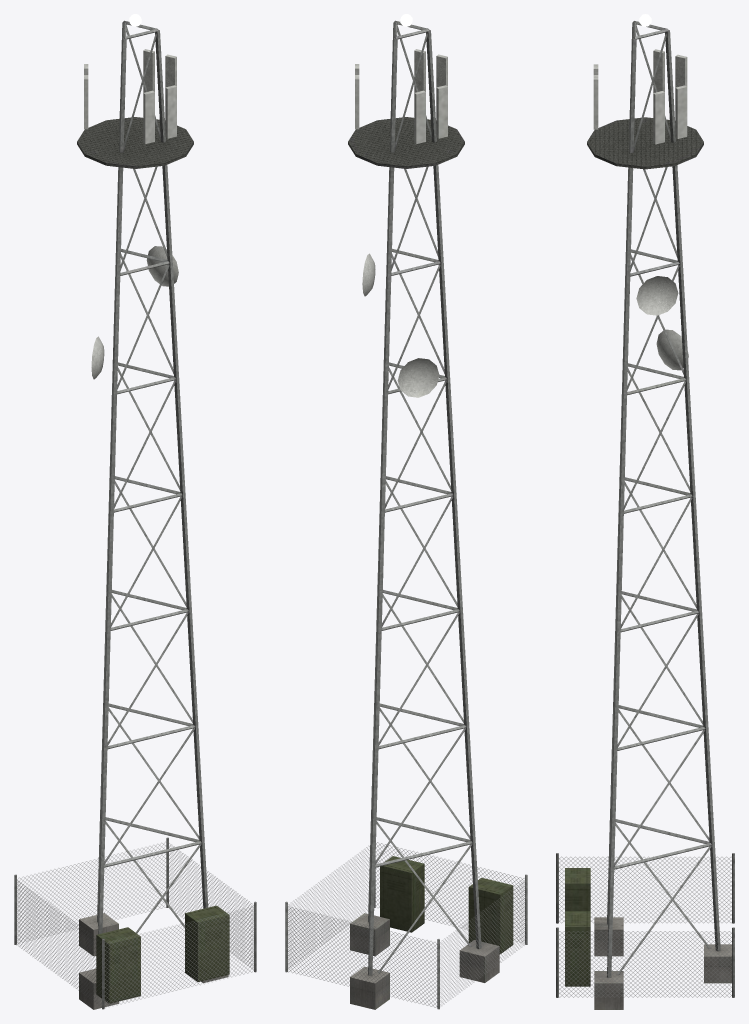
The model's file is cell_tower.glb.
The picture shows the model from 3 angles, left to right: view 1: azimuth 30°, elevation 25°; view 2: azimuth 150°, elevation 25°; view 3: azimuth 270°, elevation 25°; orthographic projection.
Visible parts, largest first — view 1: cell_tower; view 2: cell_tower; view 3: cell_tower.
Boxes of the visible parts, bbox=[...] form: cell_tower: bbox=[14, 20, 256, 1009]; cell_tower: bbox=[285, 20, 527, 1009]; cell_tower: bbox=[556, 21, 734, 1009].
Bounding box in the file's own units: 4.88 × 28.98 × 4.88.
4 materials, 3 textured.
